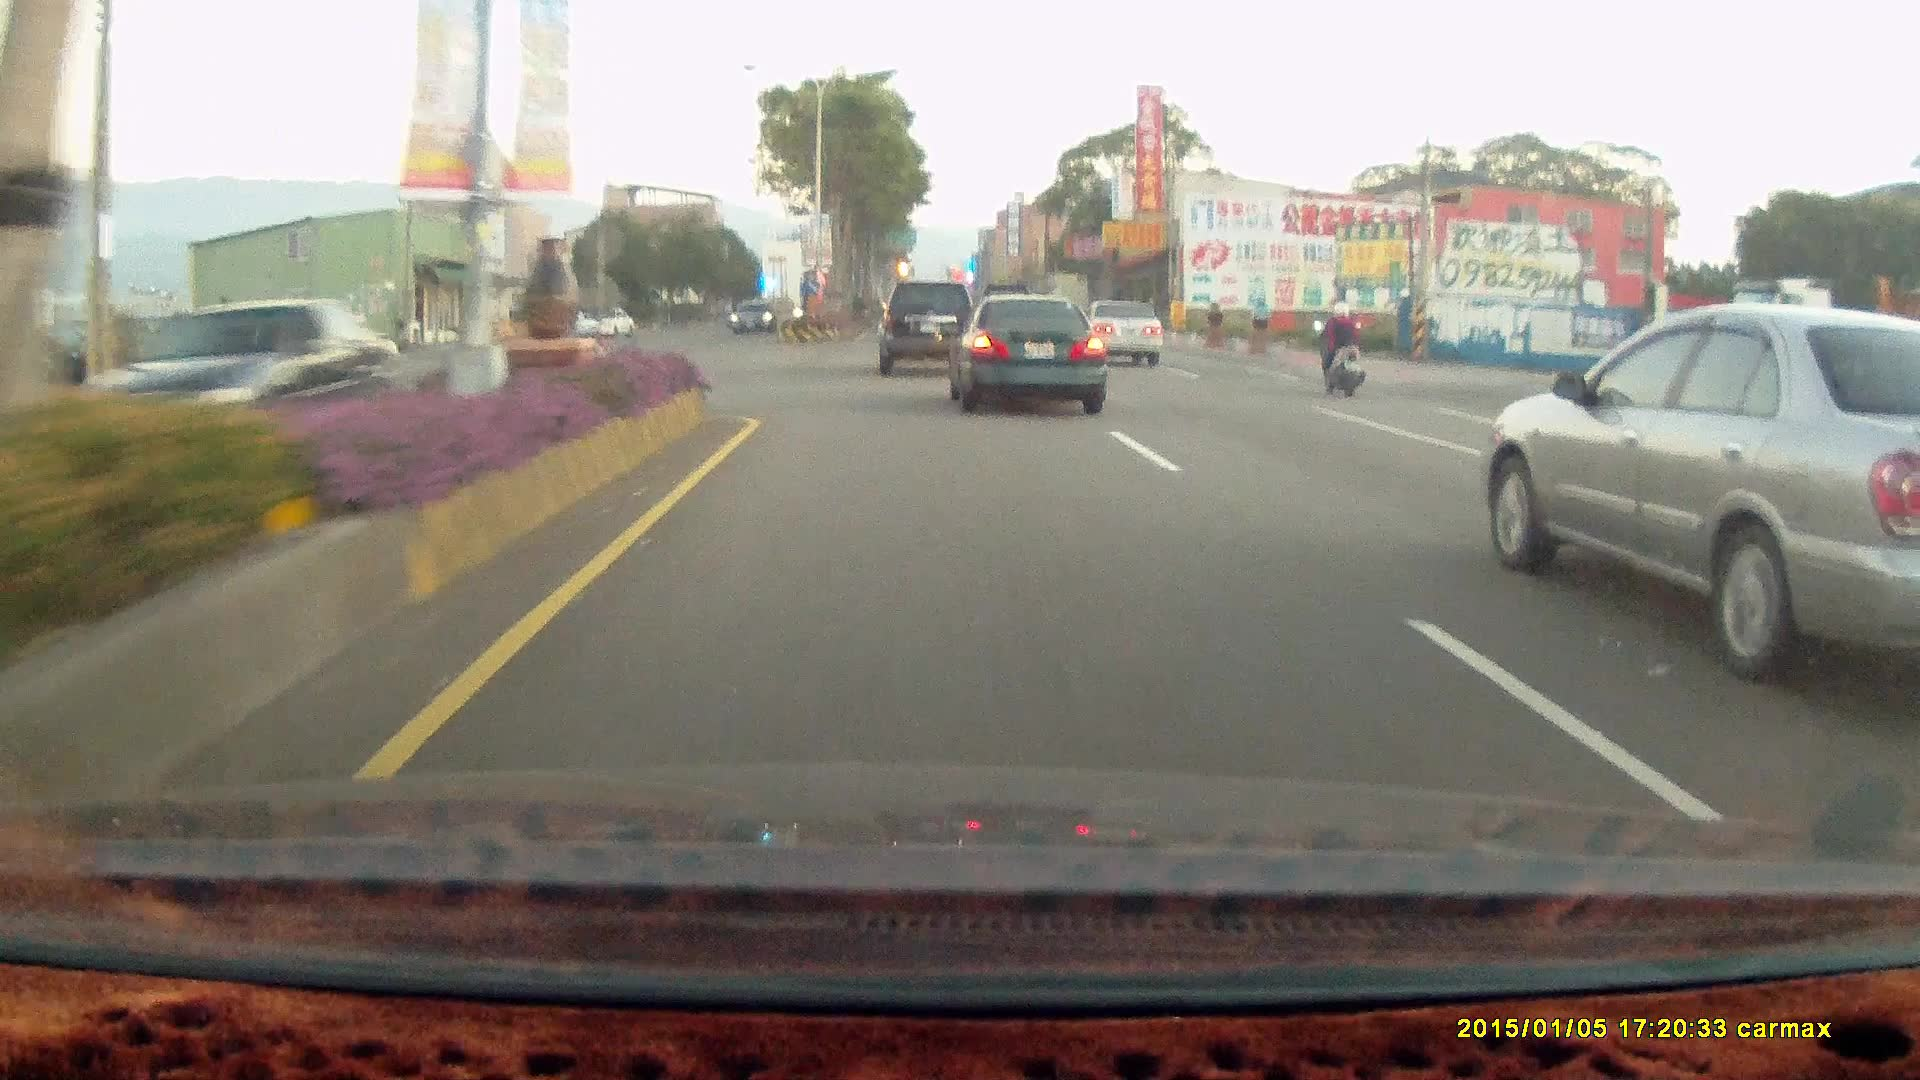rider: (1304, 290, 1375, 406), (1309, 297, 1365, 395)
vehicle: (1480, 303, 1920, 680), (74, 298, 405, 469), (936, 292, 1098, 411), (955, 296, 1114, 416), (880, 281, 982, 377), (876, 280, 975, 376), (1078, 297, 1165, 366), (1078, 296, 1163, 365), (574, 305, 636, 340), (573, 305, 635, 339), (728, 297, 779, 336), (728, 297, 776, 332)
